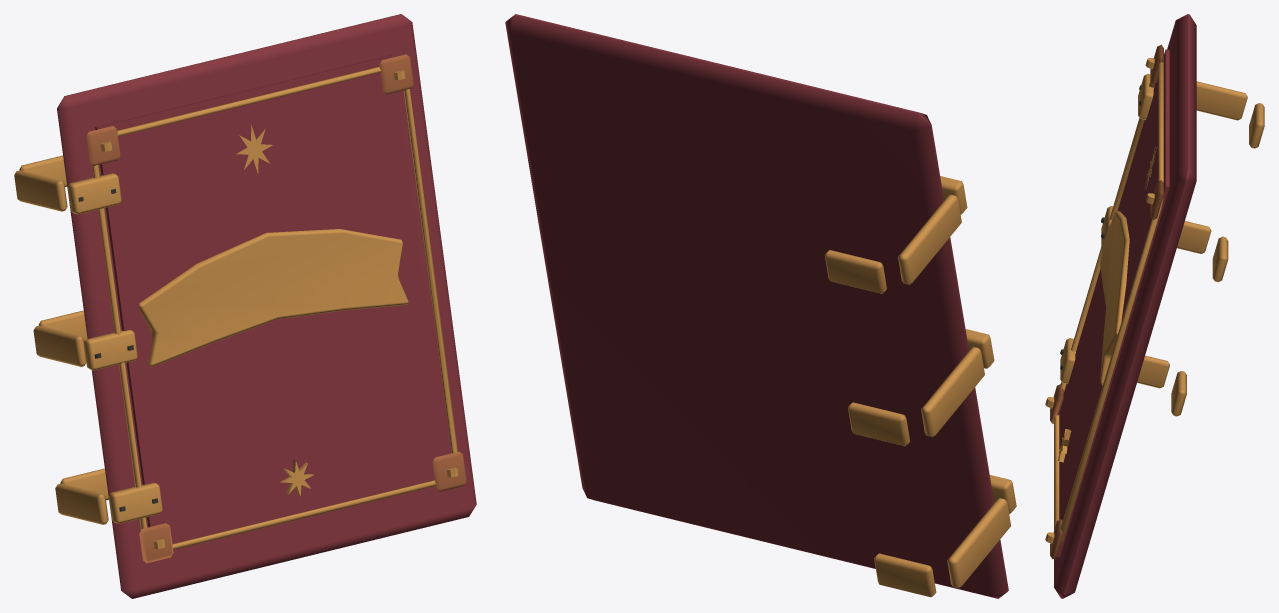
Rendered from Creditos_Tapa.fbx.
The picture shows the model from 3 angles, left to right: view 1: azimuth 30°, elevation 25°; view 2: azimuth 150°, elevation 25°; view 3: azimuth 270°, elevation 25°; orthographic projection. The views are drawn at different scales.
Visible parts, largest first — view 1: Tapa; view 2: Tapa; view 3: Tapa.
Boxes of the visible parts, x1,y1,x2,y2 form: Tapa: (14, 14, 476, 598); Tapa: (505, 14, 1016, 598); Tapa: (1045, 14, 1264, 598).
Size of the model in its own units: 101 by 120 by 55.51.
